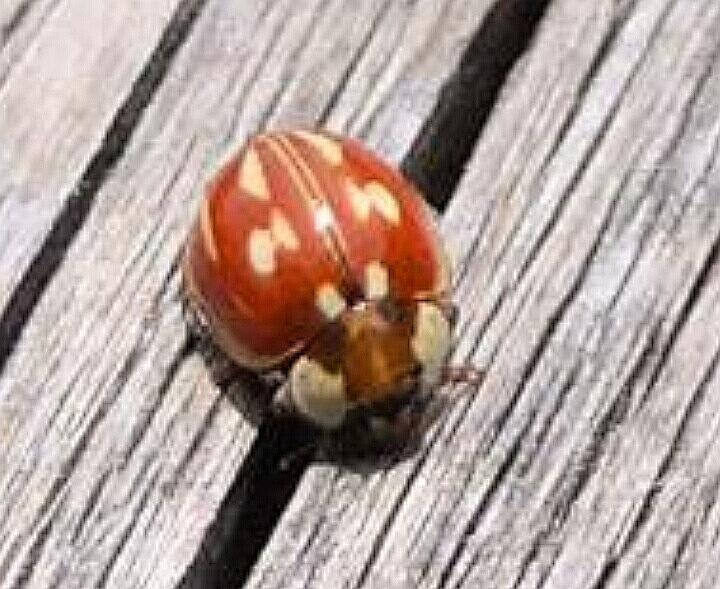ladybug: (181, 126, 488, 474)
